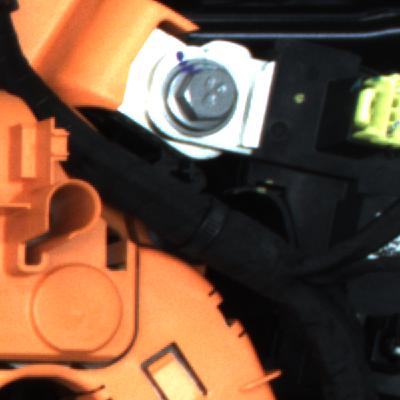nut_b: (151, 55, 266, 144)
